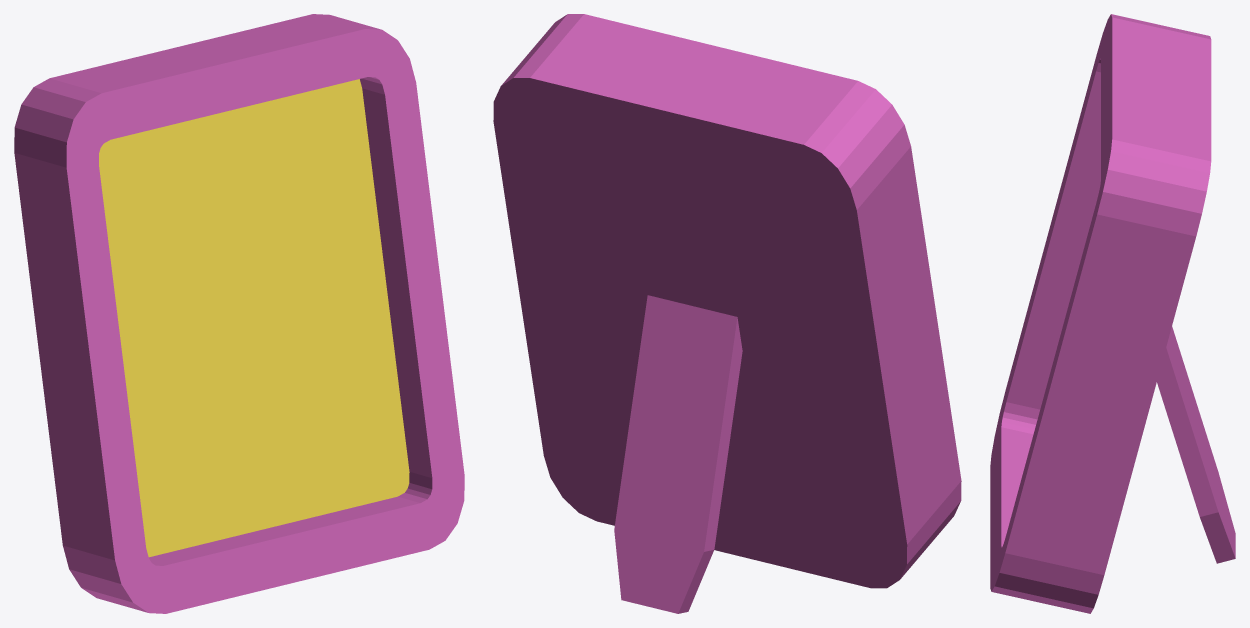
Rendered from SmallFrame.fbx.
The picture shows the model from 3 angles, left to right: view 1: azimuth 30°, elevation 25°; view 2: azimuth 150°, elevation 25°; view 3: azimuth 270°, elevation 25°; orthographic projection. The views are drawn at different scales.
Visible parts, largest first — view 1: SmallFrame; view 2: SmallFrame; view 3: SmallFrame.
Boxes of the visible parts, x1,y1,x2,y2 form: SmallFrame: (14,14,464,613); SmallFrame: (493,14,961,613); SmallFrame: (990,14,1235,613).
Bounding box in the file's own units: 150 × 204 × 96.16.
